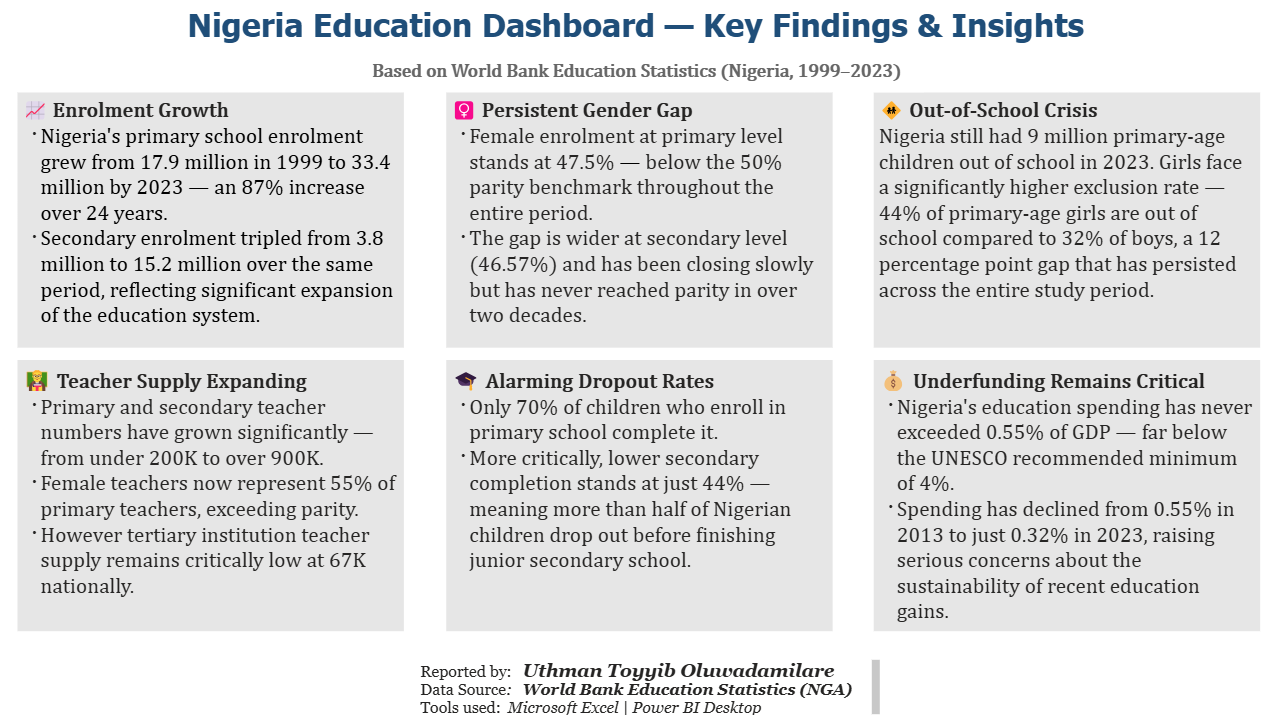

The page's visual inventory and layout, read from the dashboard file:
{"tool":"powerbi","page":{"name":"Key Findings & Insights","canvas":[1280,720],"ordinal":5},"visuals":[{"type":"textbox","box":[170,0,941.2,56.2],"z":0},{"type":"textbox","box":[878.8,92.5,386.2,255],"z":1000},{"type":"textbox","box":[22.5,360,386.2,271.2],"z":2000},{"type":"textbox","box":[353.8,56.2,575,36.2],"z":3000},{"type":"textbox","box":[22.5,92.5,386.2,255],"z":4000},{"type":"textbox","box":[450.8,92.5,386,255],"z":5000},{"type":"textbox","box":[451.2,360,386.2,271.2],"z":6000},{"type":"textbox","box":[878.8,360,386.2,271.2],"z":7000},{"type":"textbox","box":[420,655,470,65],"z":8000}]}

Visuals, with their boxes in screenshot pixels (x1, y1, x2, y2), scaled from the page's 1280x720 canvas onto the 1270x719 screenshot:
textbox: bbox=(169, 0, 1103, 56)
textbox: bbox=(872, 92, 1255, 347)
textbox: bbox=(22, 360, 406, 630)
textbox: bbox=(351, 56, 922, 92)
textbox: bbox=(22, 92, 406, 347)
textbox: bbox=(447, 92, 830, 347)
textbox: bbox=(448, 360, 831, 630)
textbox: bbox=(872, 360, 1255, 630)
textbox: bbox=(417, 654, 883, 718)
